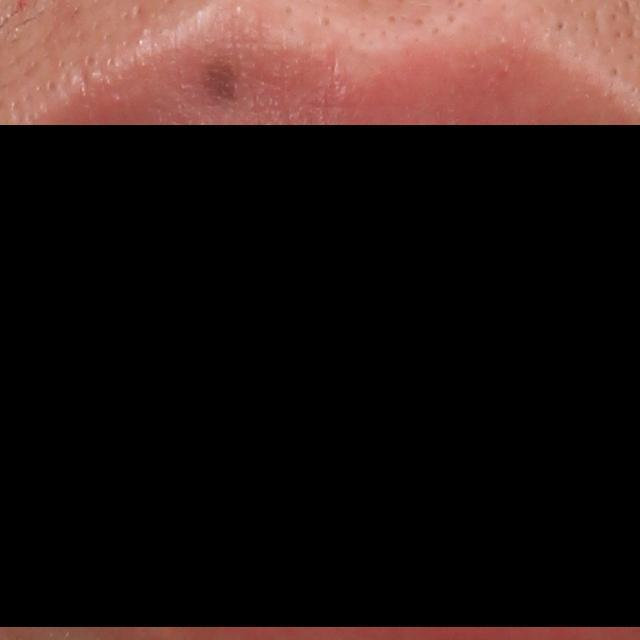nevus: (197, 51, 246, 109)
